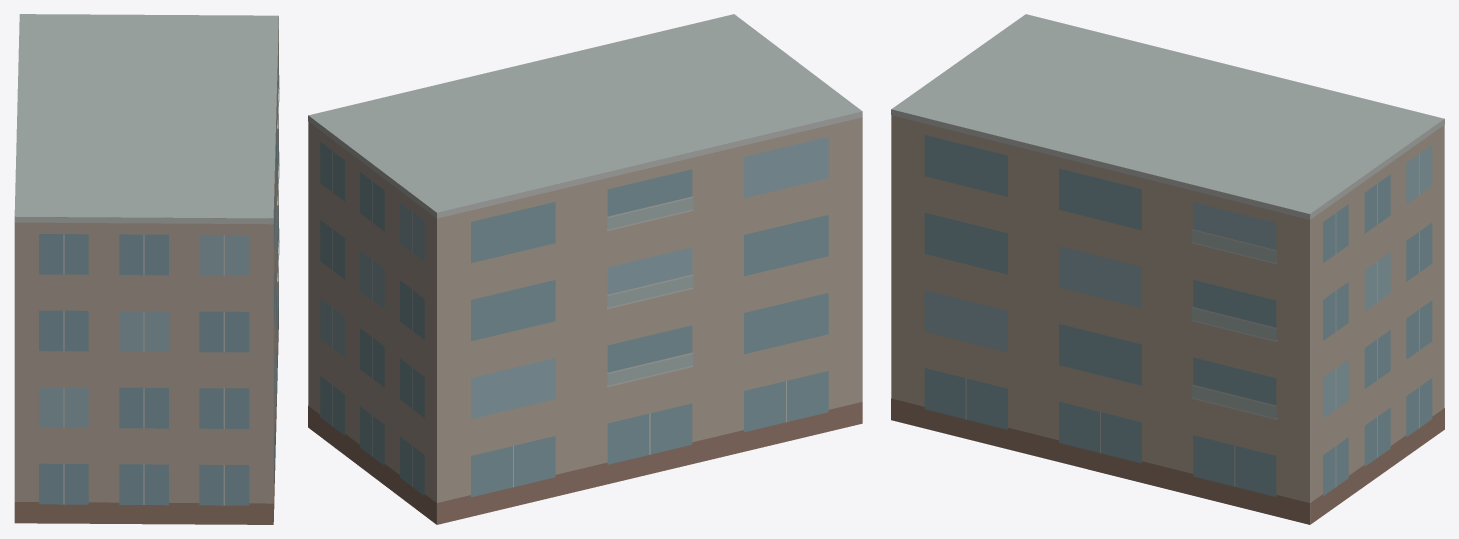
Rendered from survey-upis-32831143.glb.
3 renders of one model, left to right at view 1: azimuth 30°, elevation 25°; view 2: azimuth 150°, elevation 25°; view 3: azimuth 270°, elevation 25°, orthographic.
Visible parts, largest first — view 1: survey-upis-32831143.tmp; view 2: survey-upis-32831143.tmp; view 3: survey-upis-32831143.tmp.
Boxes of the visible parts, x1,y1,x2,y2 form: survey-upis-32831143.tmp: [14, 14, 279, 524]; survey-upis-32831143.tmp: [308, 14, 862, 524]; survey-upis-32831143.tmp: [891, 14, 1444, 524].
Bounding box in the file's own units: 17.89 × 12.95 × 20.91.
